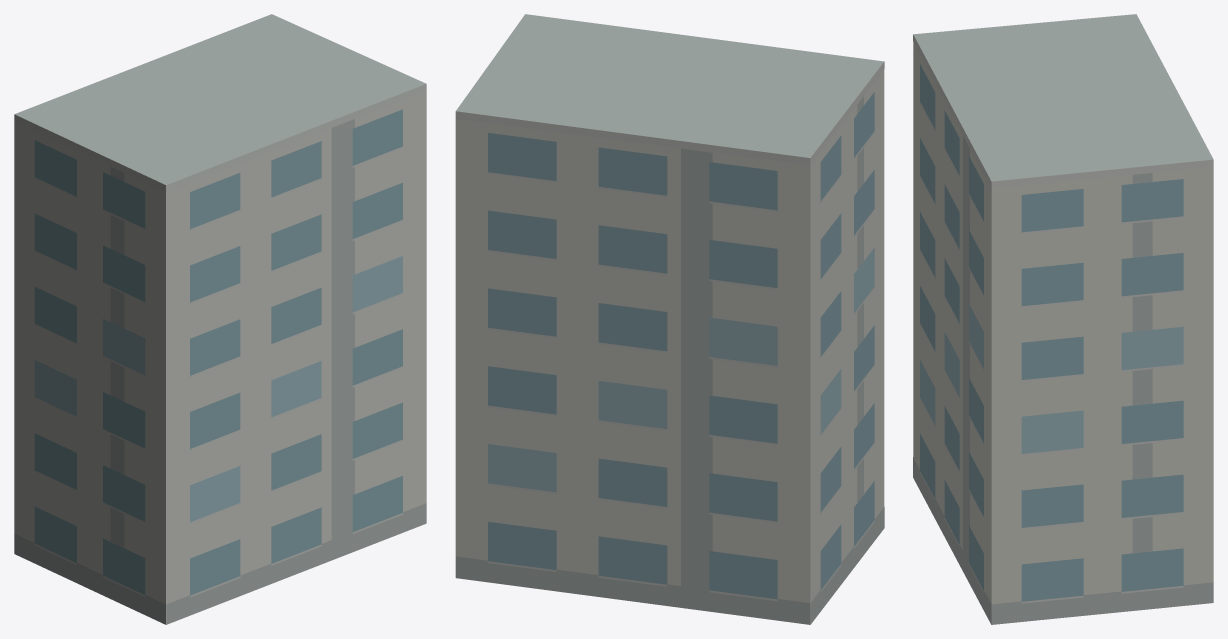
Rendered from survey-upis-32569779.glb.
3 renders of one model, left to right at view 1: azimuth 30°, elevation 25°; view 2: azimuth 150°, elevation 25°; view 3: azimuth 270°, elevation 25°, orthographic. The views are drawn at different scales.
Visible parts, largest first — view 1: survey-upis-32569779.tmp; view 2: survey-upis-32569779.tmp; view 3: survey-upis-32569779.tmp.
Boxes of the visible parts, left/top/right/bottom form: survey-upis-32569779.tmp: left=14, top=14, right=426, bottom=624; survey-upis-32569779.tmp: left=455, top=14, right=884, bottom=624; survey-upis-32569779.tmp: left=913, top=14, right=1213, bottom=624.
Size of the model in its own units: 12.17 by 15 by 9.23.
